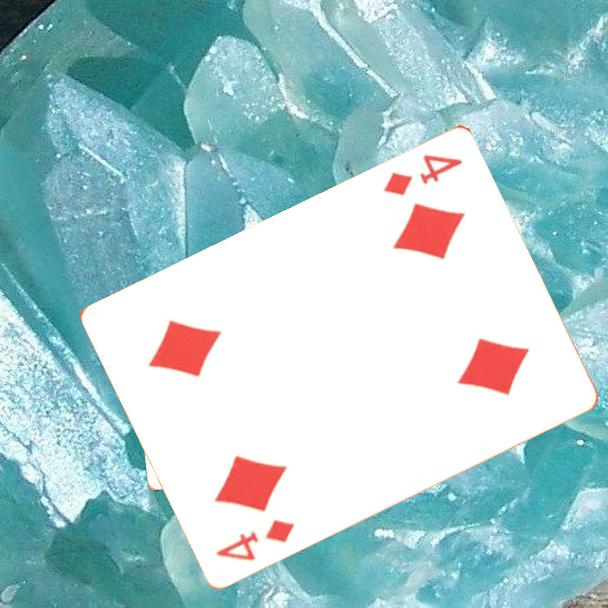d04: (380, 150, 466, 198), (212, 515, 298, 563)
